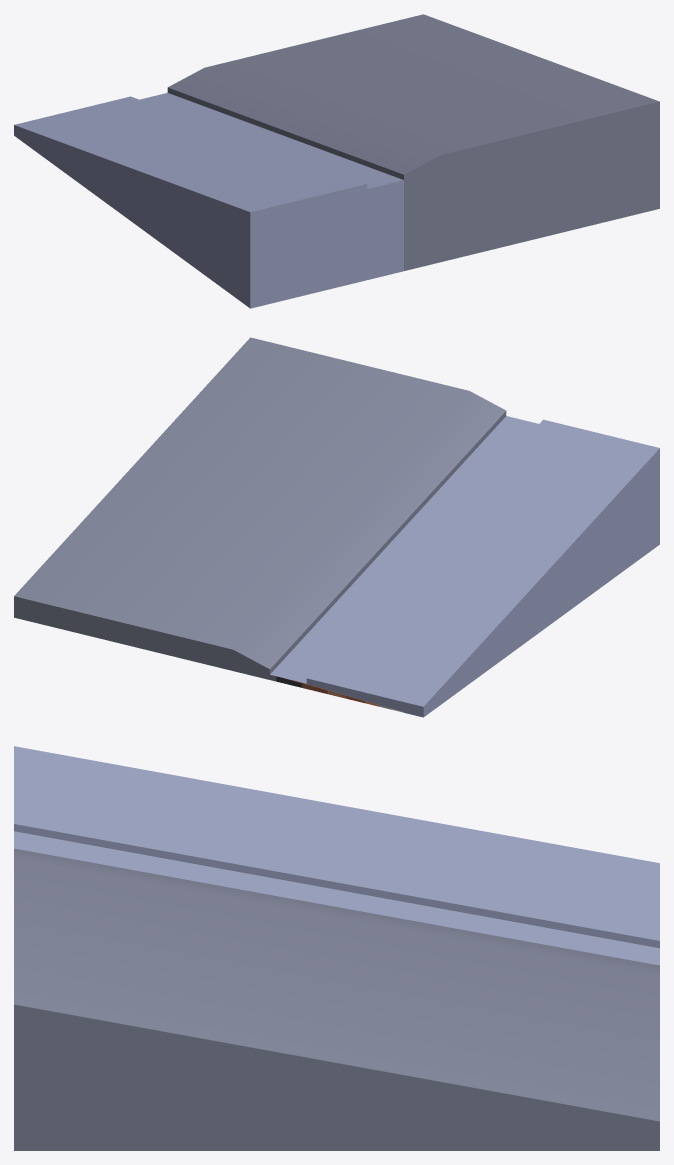
Rendered from road-edge-slope.glb.
3 views of the same model, one above another, from view 1: azimuth 30°, elevation 25°; view 2: azimuth 150°, elevation 25°; view 3: azimuth 270°, elevation 25° (orthographic). The views are drawn at different scales.
Parts seen in each view (by area): view 1: road-edge-slope; view 2: road-edge-slope; view 3: road-edge-slope.
Boxes of the visible parts, left/top/right/bottom form: road-edge-slope: left=14, top=14, right=659, bottom=308; road-edge-slope: left=14, top=337, right=659, bottom=717; road-edge-slope: left=14, top=746, right=659, bottom=1150.
Bounding box in the file's own units: 1 × 0.25 × 1.
1 material, 1 textured.
